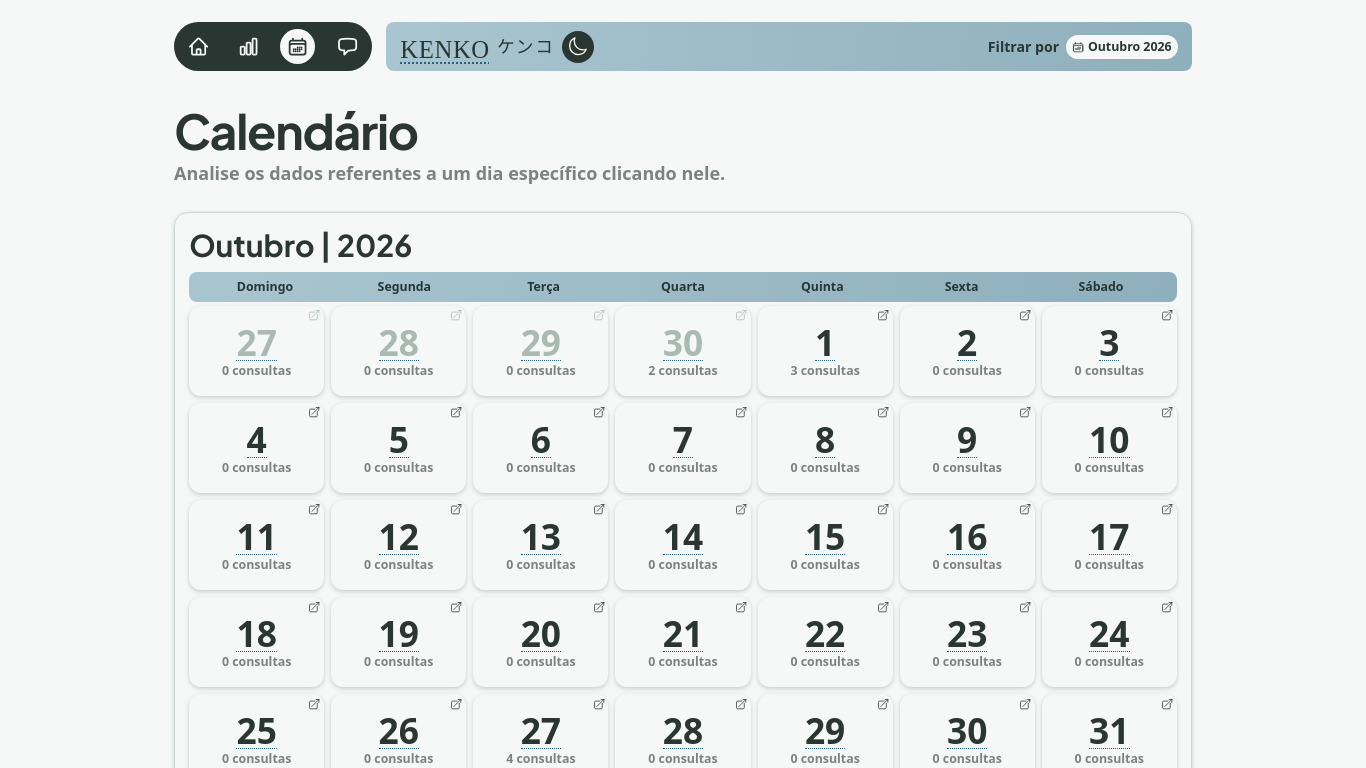
Test: abre a data selecionada e mantém o resumo estático aprovado para o protótipo Dia
The width and height of the screenshot is (1366, 768).
Step 1. Click the link with aria-label "2026-10-01, 3 consultas" → (825, 351), box [758,306,893,396]
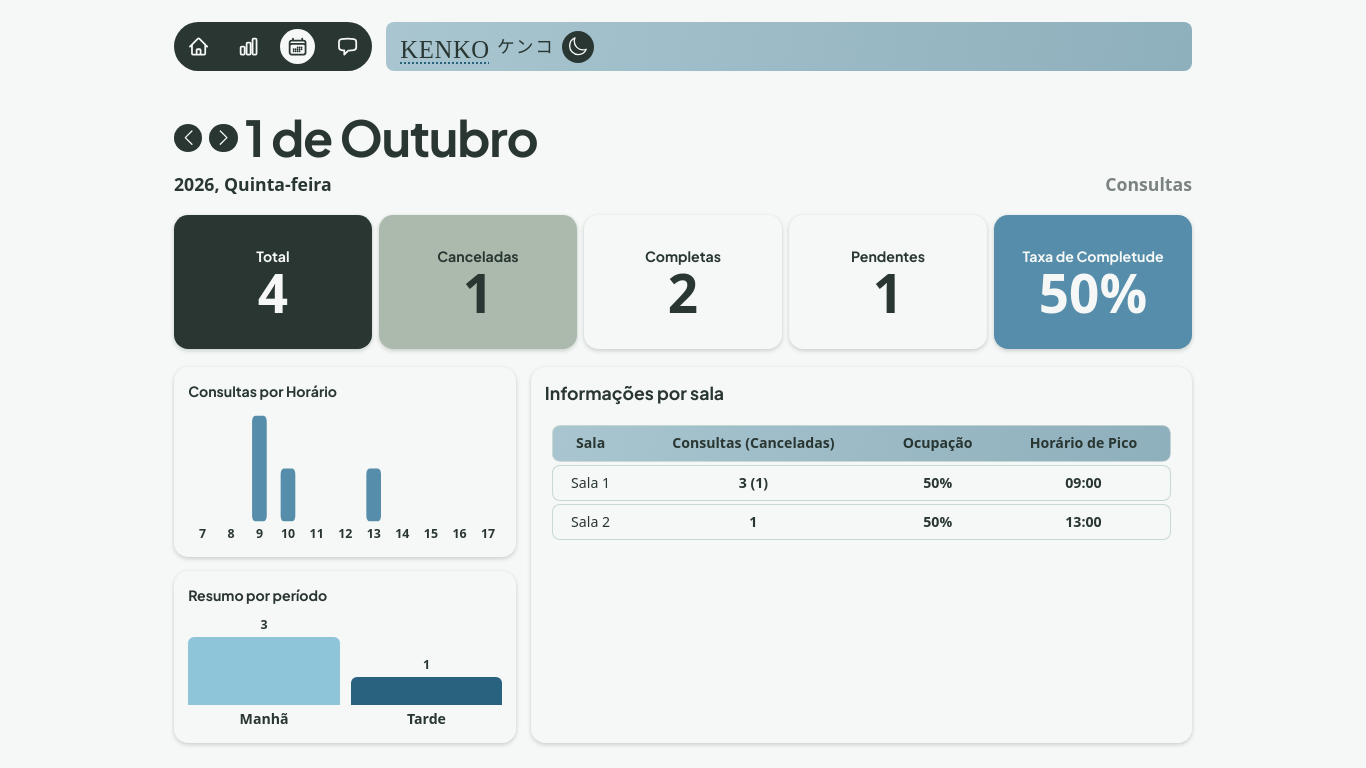
Check: the heading "1 de Outubro" is shown, box [245,107,538,169]
Check: the text "2026, Quinta-feira" is shown, box [174,172,332,197]
Check: the element "Total" reads "Total 4", box [174,215,372,349]
